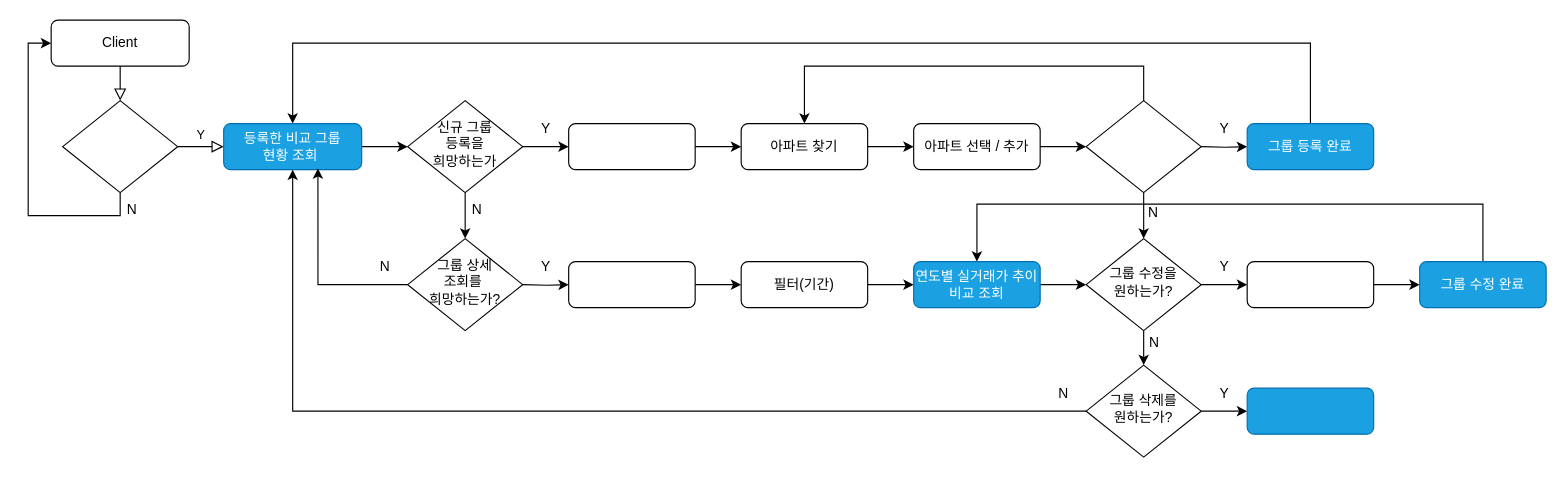
Image size: 1566x477. Some labels were removed from this diagram. Here are the shapes that lost their labels. From the top down, the centre of each, then its label:
At [120,146]: "비교 그룹 관리를 희망 하는가?".
At [631,146]: "그룹 이름 입력".
At [1143,146]: "선택을 완료 하였는가?".
At [631,284]: "그룹 선택".
At [1310,284]: "그룹 이름 수정 / 아파트 목록 수정".
At [1310,410]: "그룹 삭제 완료".
